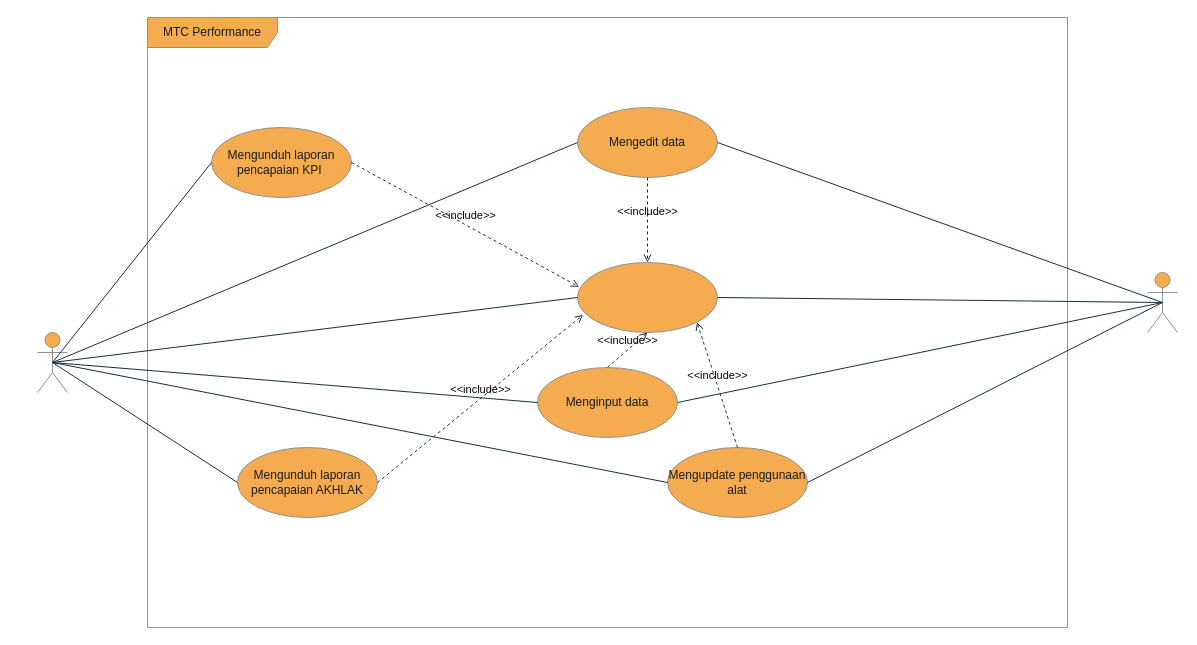
This 1197x645 diagram has some shape labels left out. The shapes that lost their labels are listed below. From the top down, each one's box as (x1, y1, x2, y2) in pixels, then its label:
(576, 262, 718, 332): Login
(1146, 272, 1178, 332): Officer
(36, 332, 68, 392): Administrator
